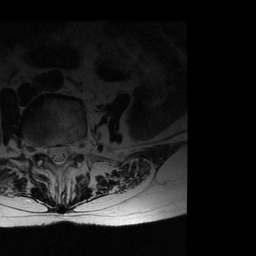CCS_normal: (55, 135, 63, 173)
LFS_normal: (71, 133, 80, 162)
LLS_normal: (63, 135, 71, 168)
RFS_normal: (38, 135, 46, 161)
RLS_normal: (46, 136, 55, 168)
